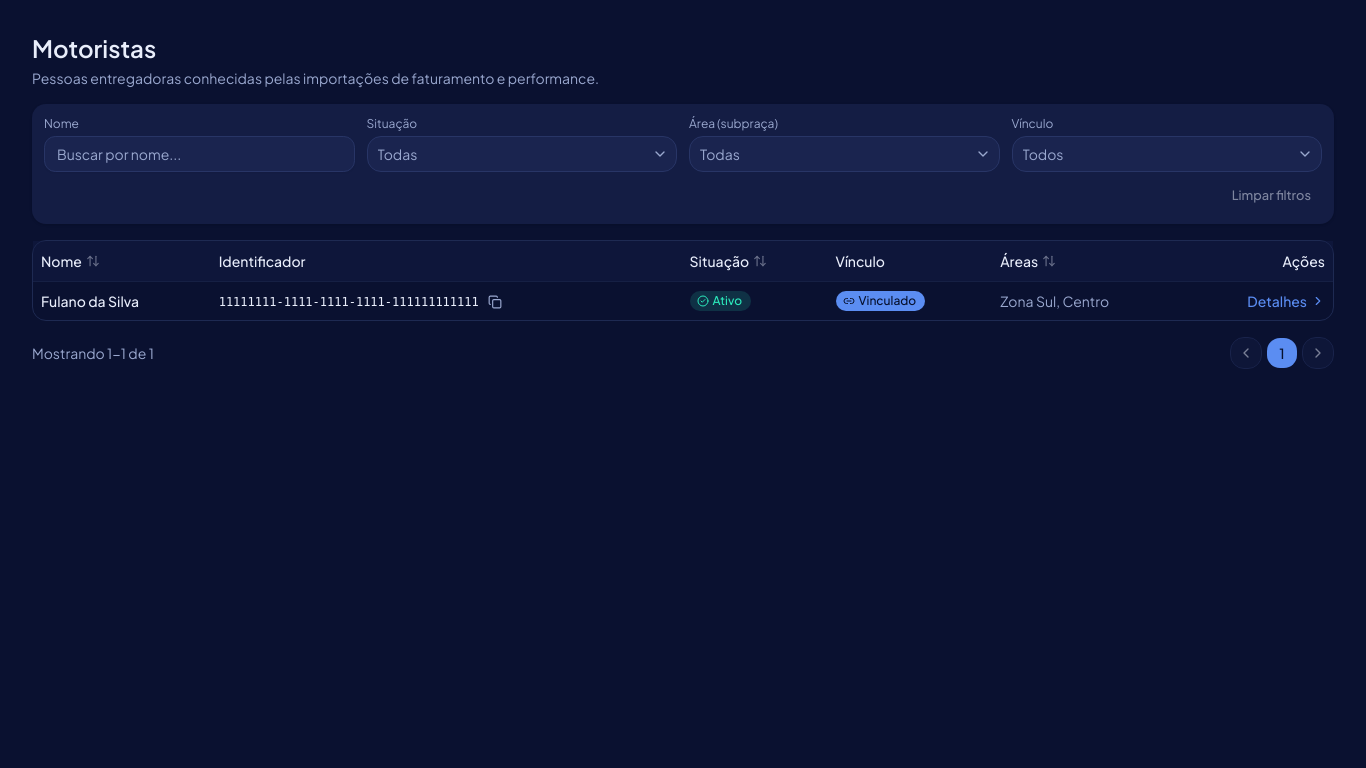
Test: MotoristasPage › ação "Detalhes" abre o modal com os campos do legado (nome, CNPJ, cadastro, situação)
Click the button "Detalhes". click: (1286, 300)
box: 1247,290 -> 1325,310
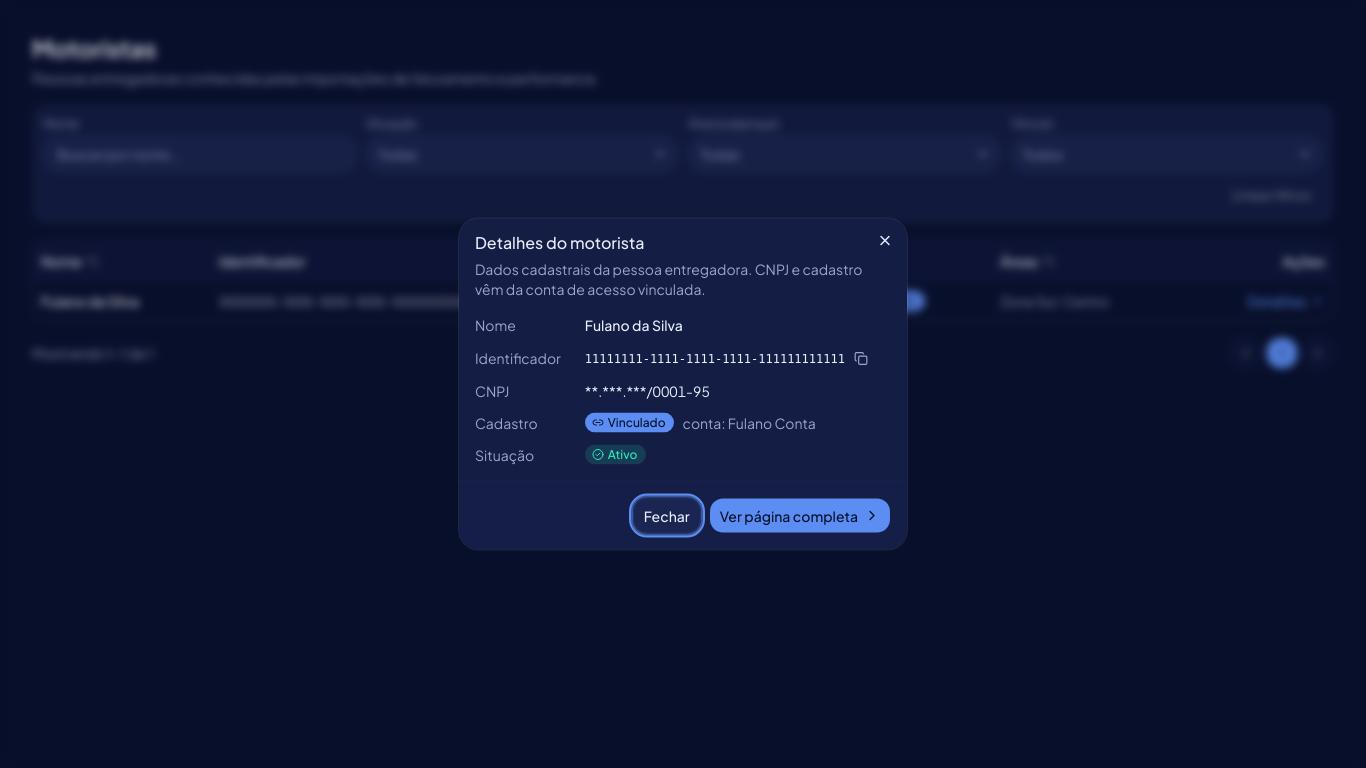
expect the heading "Detalhes do motorista" is shown: met, box 475,232 -> 644,252
expect the text "**.***.***/0001-95" is shown: met, box 585,382 -> 710,400
